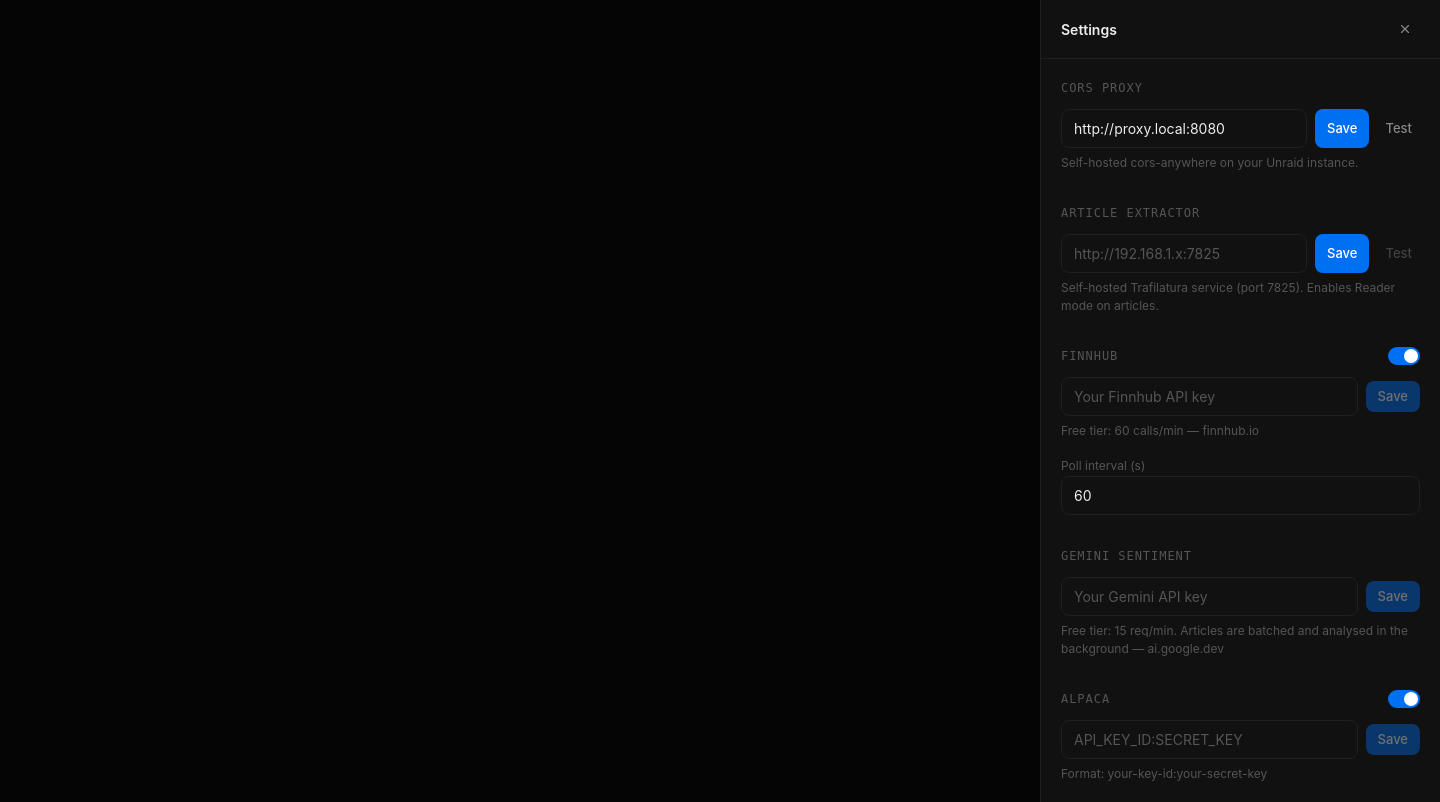
Test: SettingsPanel › CORS Proxy section › shows âœ“ badge after successful proxy test
The width and height of the screenshot is (1440, 802).
Step 1. Click the button with aria-label "Test CORS proxy" → x=1399, y=128, box [1378,109,1420,148]
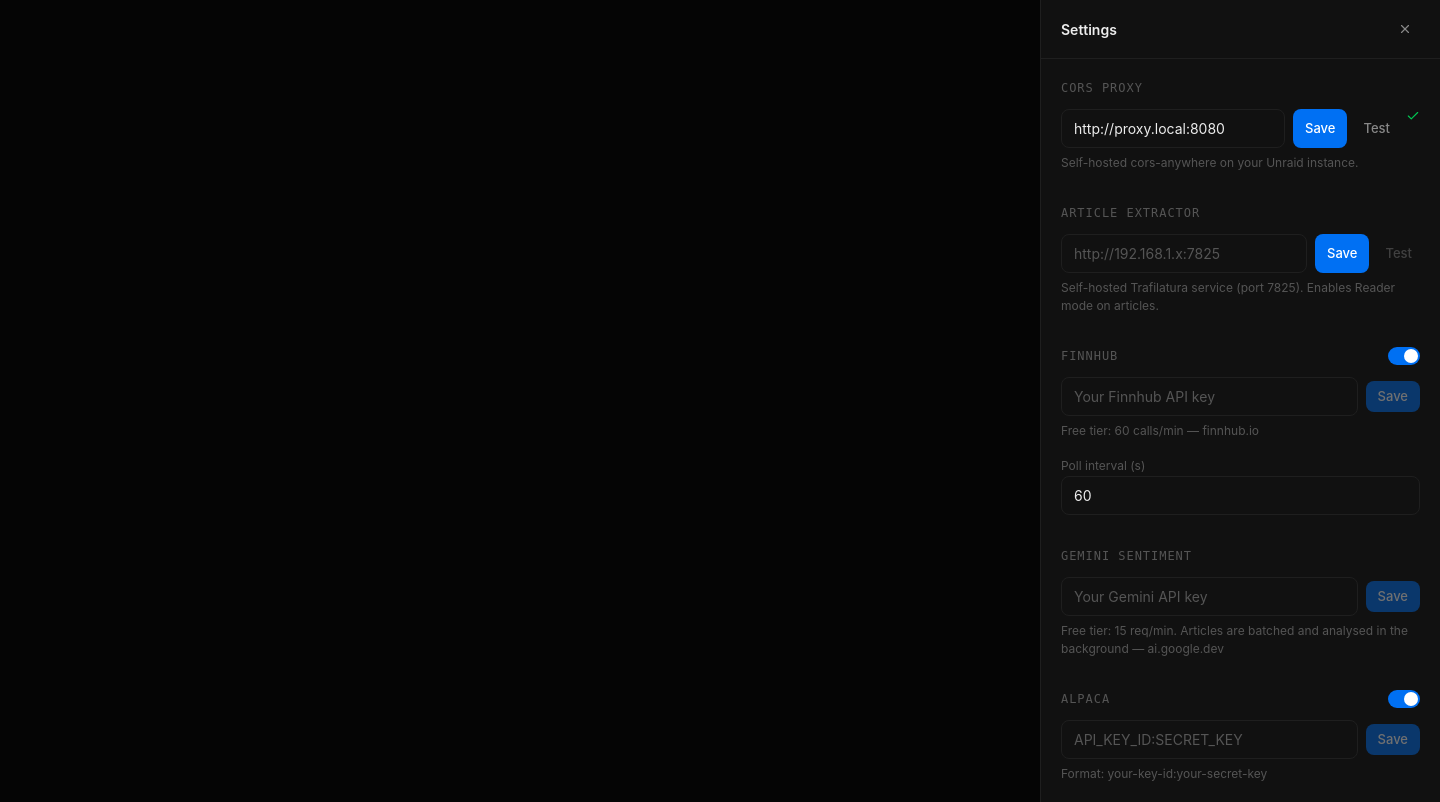
expect the icon named "valid" is shown: met, box [1406,109,1420,123]
